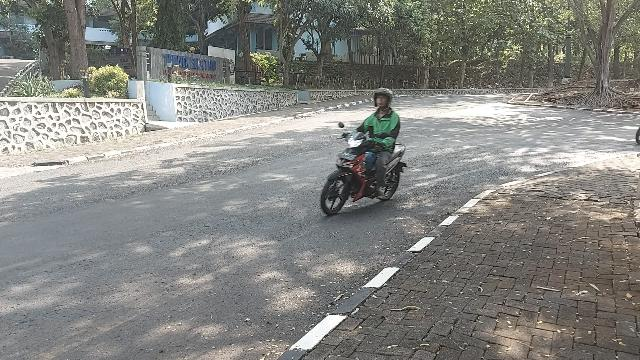helm: (375, 88, 393, 108)
motor: (322, 123, 408, 218)
